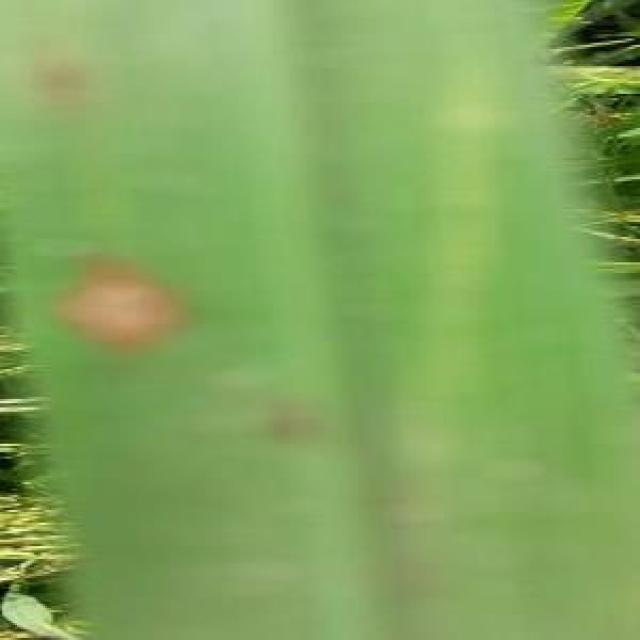Brown_Spot: (25, 43, 103, 140), (250, 400, 320, 458)
Rice_Blast: (63, 242, 188, 364)
